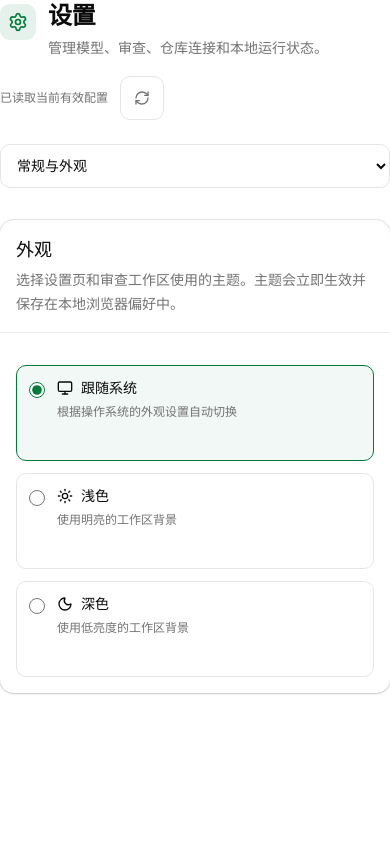
Test case: Settings › 主题立即生效并保持本地偏好，浏览器模式显示路径能力限制
The image size is (390, 844).
Step 1. Click the radio button labelled "深色 使用低亮度的工作区背景" → coordinates (37, 606), box [29, 598, 45, 614]
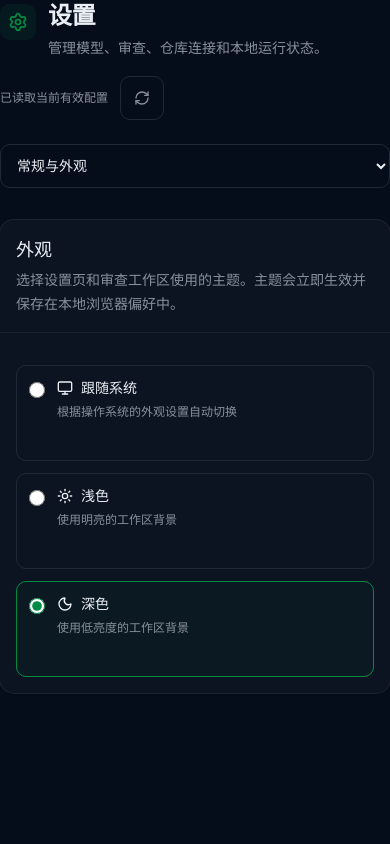
Step 2. Select "数据与诊断" in the dropdown named "设置分区" → coordinates (195, 166), box [0, 144, 389, 188]
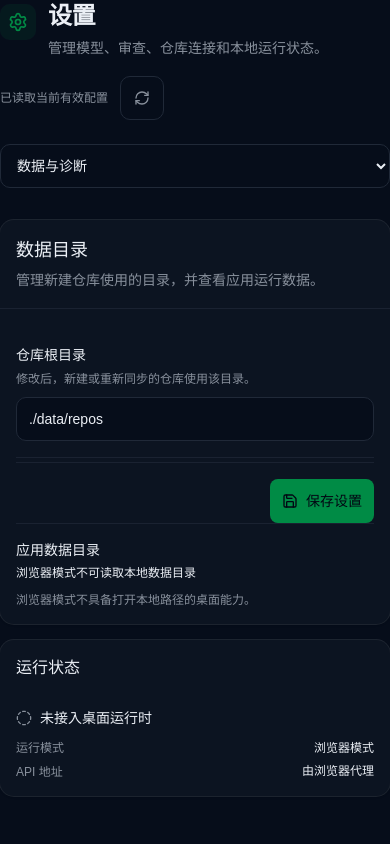
Expected: the text "浏览器模式不具备打开本地路径的桌面能力。" is shown, [16, 593, 256, 607]
